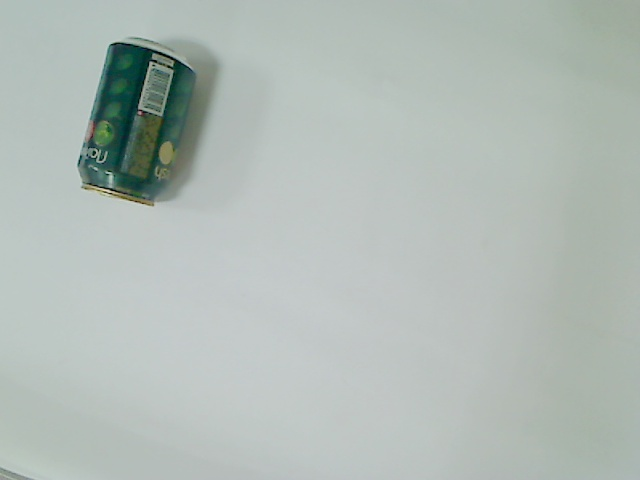can: (76, 33, 203, 212)
